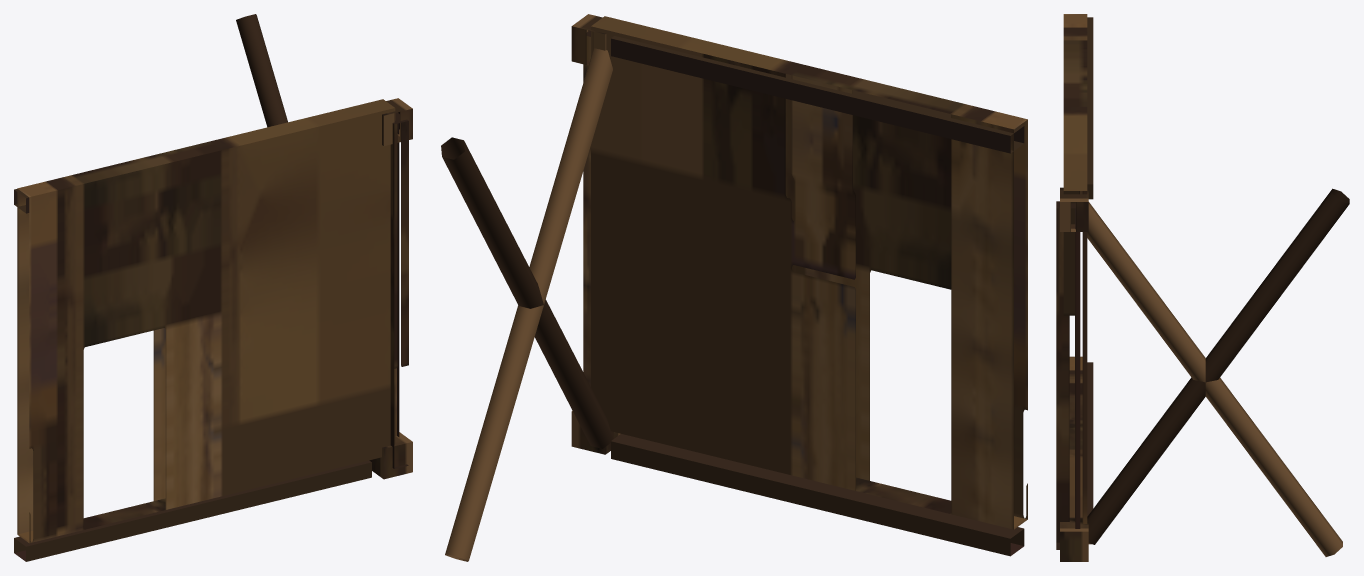
File: section-3.obj
3 renders of one model, left to right at view 1: azimuth 30°, elevation 25°; view 2: azimuth 150°, elevation 25°; view 3: azimuth 270°, elevation 25°, orthographic. The views are drawn at different scales.
Size of the model in its own units: 0.9906 by 0.9214 by 0.665.
